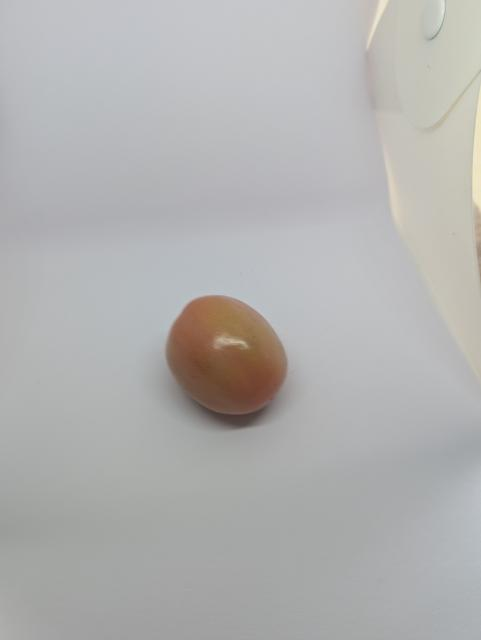turning: (163, 291, 296, 420)
